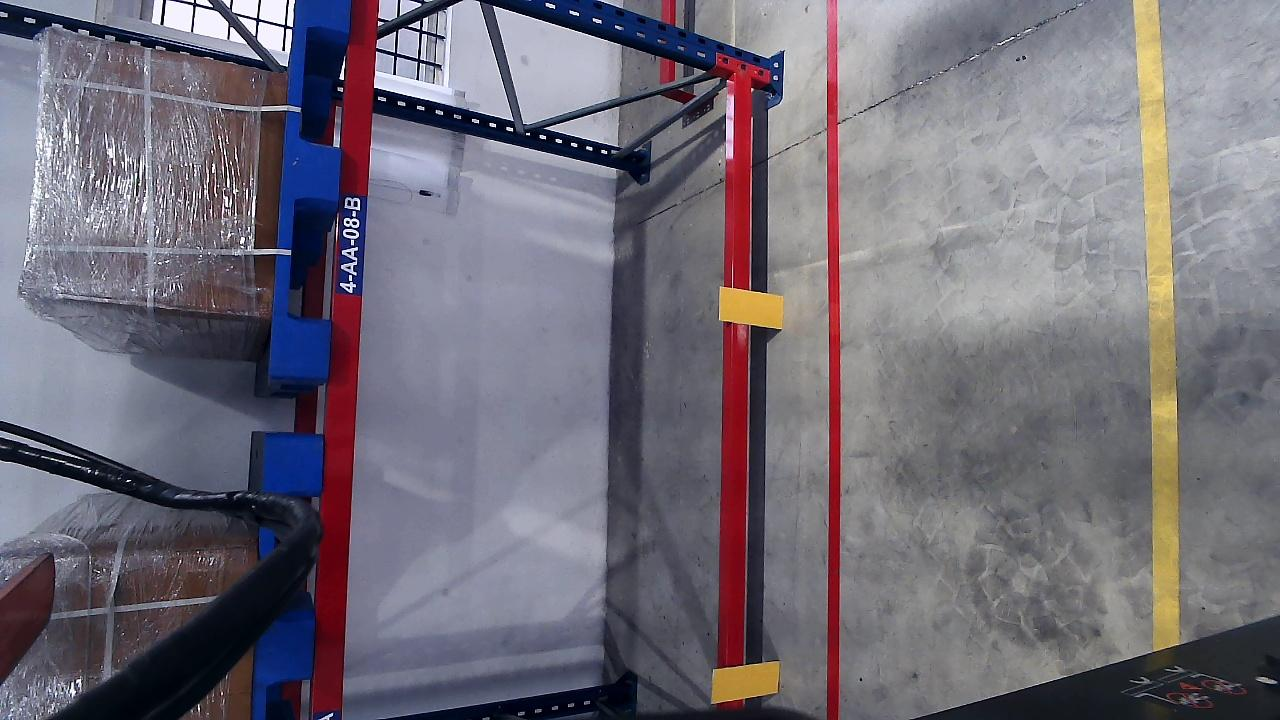h_rack: (312, 0, 376, 720), (725, 76, 758, 720)
orange_strip: (711, 660, 780, 702), (719, 285, 784, 328)
red_line: (824, 0, 845, 720)
small_pallet: (272, 0, 353, 381), (254, 439, 325, 720)
yellow_line: (1135, 0, 1181, 598)
